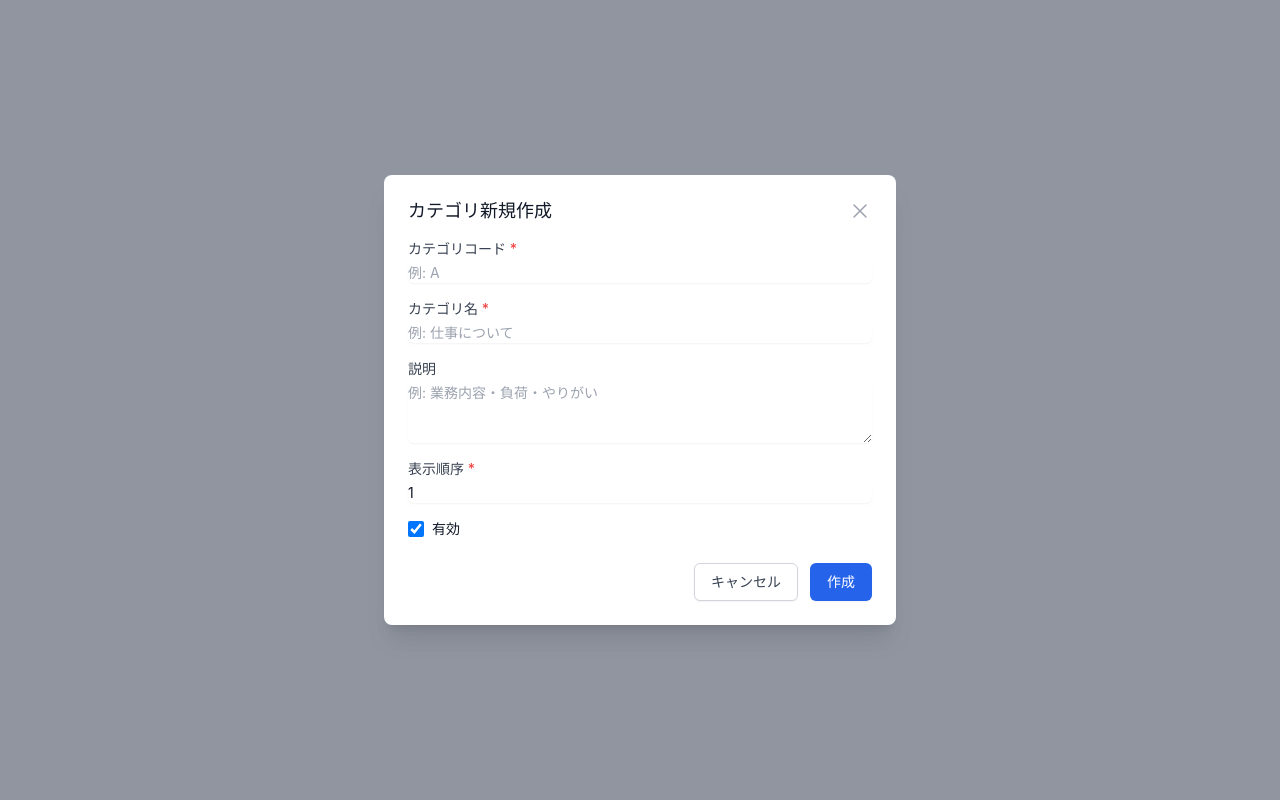
Test case: CategoryFormModal › バリデーション › カテゴリコードが空の場合、エラーメッセージを表示する
Click the button "作成". click: (841, 582)
box: [810,563,872,601]
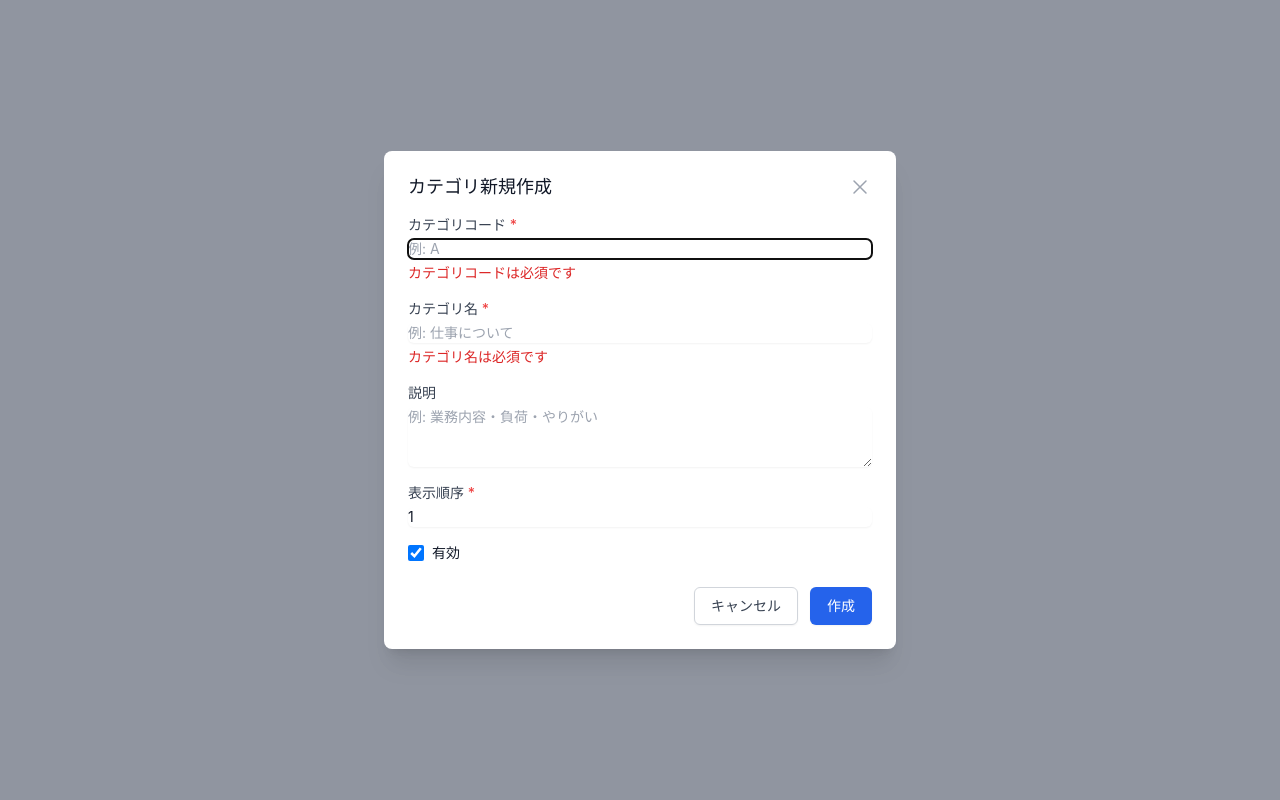
Result: the text "カテゴリコードは必須です" is shown at [408,264,576,281]
